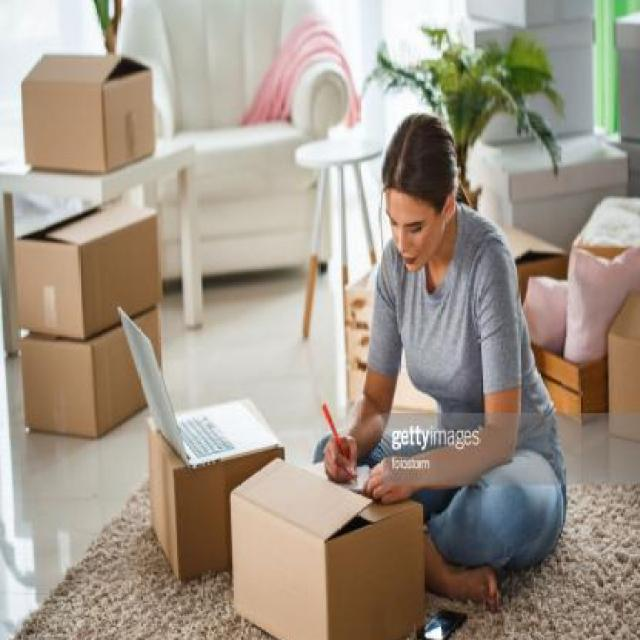box: (218, 463, 434, 640), (132, 418, 302, 629), (0, 184, 182, 338), (19, 47, 162, 181), (10, 321, 168, 424)
